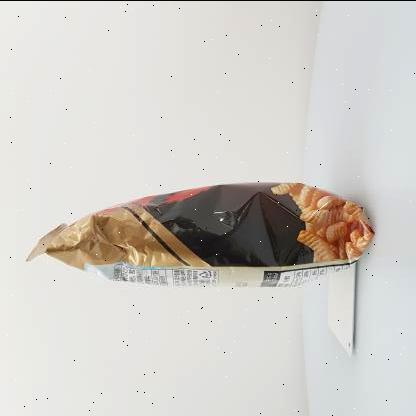Others: (17, 156, 390, 316)
